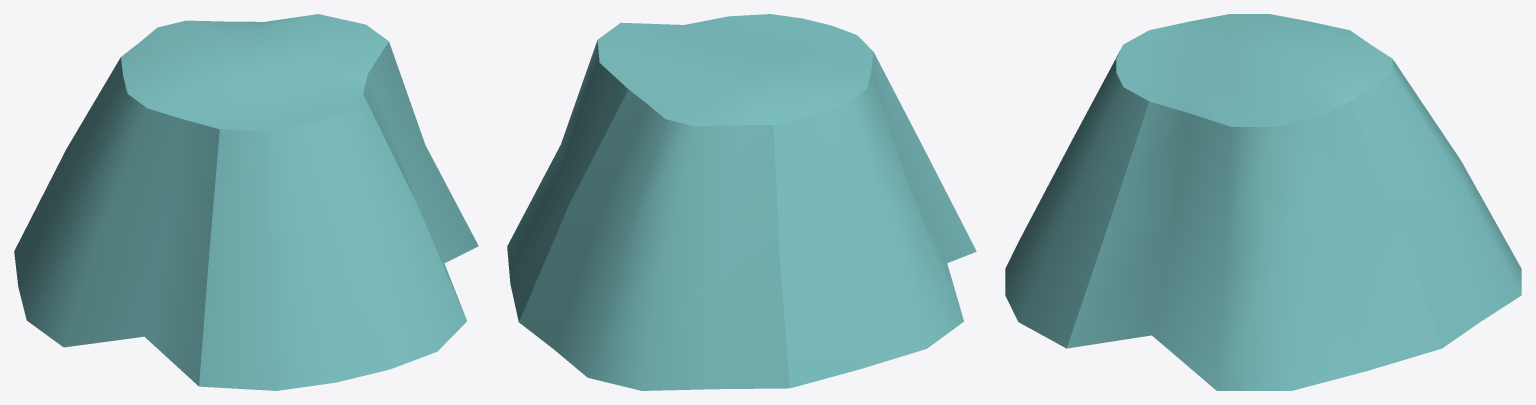
The model's file is Ice.Rock.FBX.
3 views of the same model, side by side, from view 1: azimuth 30°, elevation 25°; view 2: azimuth 150°, elevation 25°; view 3: azimuth 270°, elevation 25° (orthographic).
Parts seen in each view (by area): view 1: Platform4; view 2: Platform4; view 3: Platform4.
Part boxes in pixels (x1,y1,x2,y2): Platform4: [14, 14, 478, 390]; Platform4: [507, 14, 976, 390]; Platform4: [1005, 14, 1521, 390].
Bounding box in the file's own units: 24.34 × 12.31 × 25.81.
